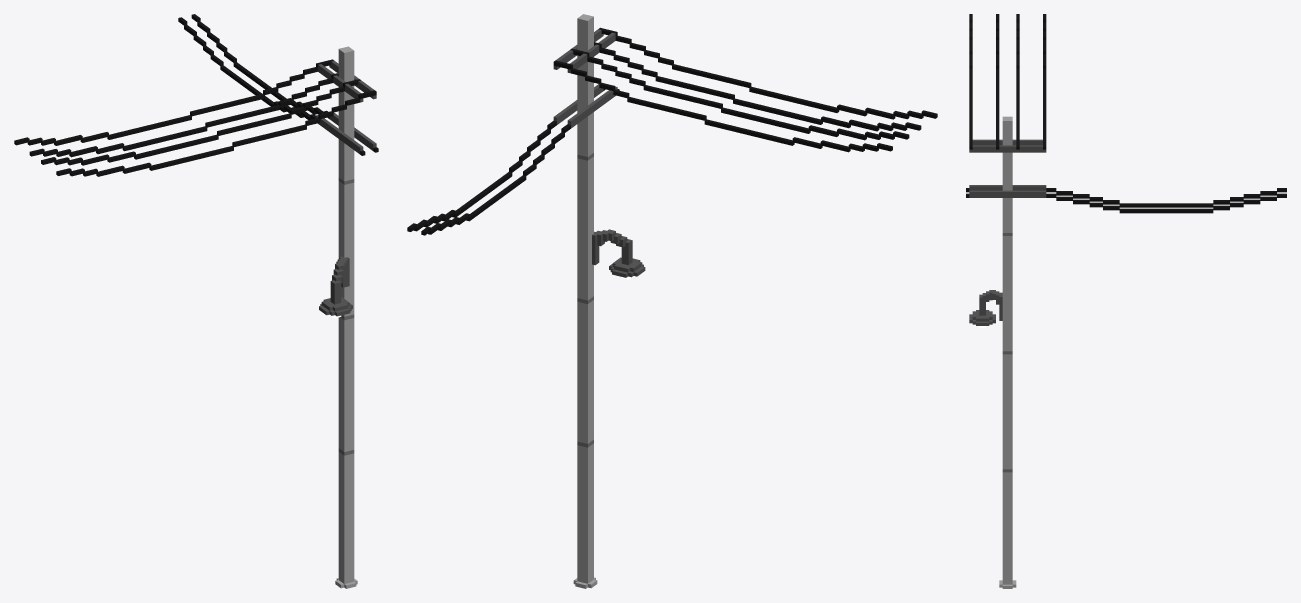
The model's file is poleNine.glb.
3 renders of one model, left to right at view 1: azimuth 30°, elevation 25°; view 2: azimuth 150°, elevation 25°; view 3: azimuth 270°, elevation 25°, orthographic. The views are drawn at different scales.
Visible parts, largest first — view 1: ObjObject; view 2: ObjObject; view 3: ObjObject.
Boxes of the visible parts, left/top/right/bottom form: ObjObject: left=14, top=14, right=378, bottom=588; ObjObject: left=407, top=14, right=937, bottom=588; ObjObject: left=966, top=14, right=1286, bottom=588.
Size of the model in its own units: 9.6 by 15.4 by 9.6.
Materials: 2 (1 with a texture image).
